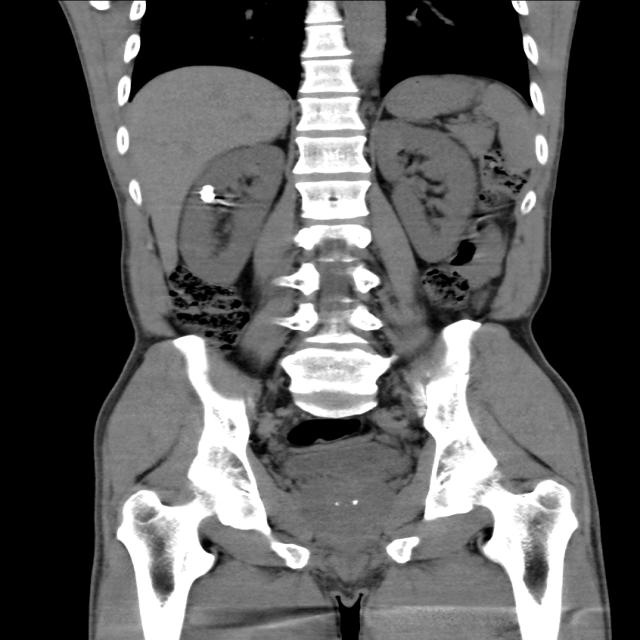kidneystone: (199, 185, 215, 202)
